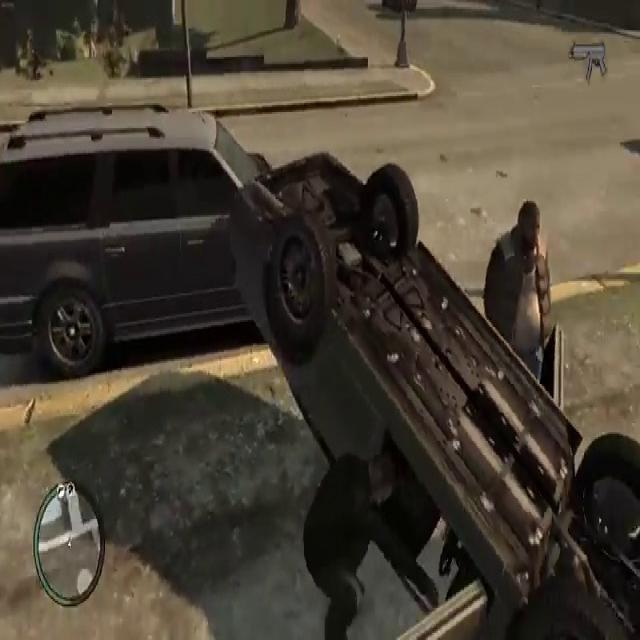severe: (216, 137, 640, 640)
